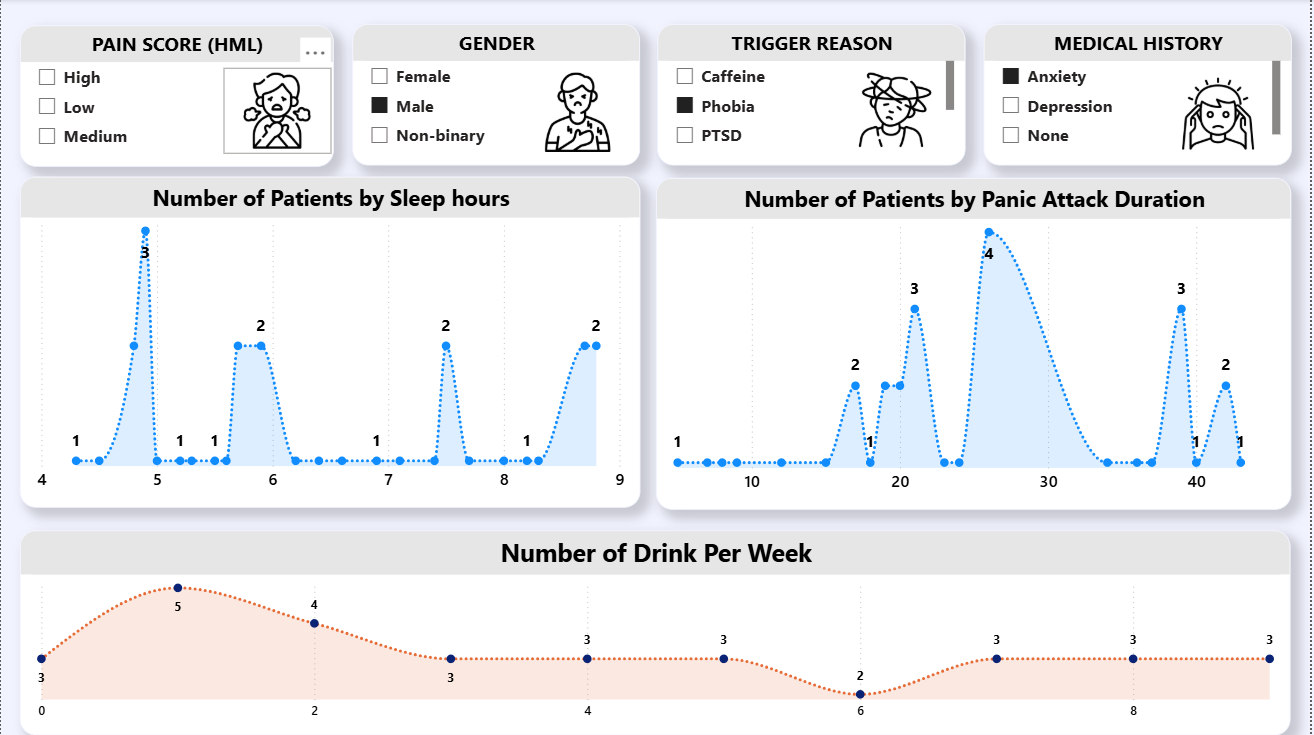

What the dashboard file says about the page in this screenshot:
{"tool":"powerbi","page":{"name":"Other Requirement","canvas":[1280,720],"ordinal":2},"visuals":[{"type":"slicer","fields":{"Values":["PANIC_ATTACK_DATA.Pain Score (HML)"]},"box":[36.1,24.5,290,138.5],"z":0},{"type":"slicer","fields":{"Values":["PANIC_ATTACK_DATA.GENDER"]},"box":[341.9,24.5,281.3,138.5],"z":1000},{"type":"slicer","fields":{"Values":["PANIC_ATTACK_DATA.TRIGGER_REASON"]},"box":[640.6,24.5,301.5,138.5],"z":2000},{"type":"slicer","fields":{"Values":["PANIC_ATTACK_DATA.MEDICAL_HISTORY"]},"box":[960.9,24.5,301.5,138.5],"z":3000},{"type":"areaChart","title":"Number of Drink Per Week","fields":{"Category":["PANIC_ATTACK_DATA.ALCOHOL_CONSUMPTION"],"Y":["CountNonNull(PANIC_ATTACK_DATA.ID)"]},"box":[34.6,519.4,1236.7,200.5],"z":4000},{"type":"areaChart","title":"Number of Patients by Sleep hours","fields":{"Y":["CountNonNull(PANIC_ATTACK_DATA.ID)"],"Category":["PANIC_ATTACK_DATA.SLEEP_HOURS"]},"box":[36.1,173.1,590.1,324.6],"z":5000},{"type":"areaChart","title":"Number of Patients by Panic Attack Duration ","fields":{"Y":["CountNonNull(PANIC_ATTACK_DATA.ID)"],"Category":["PANIC_ATTACK_DATA.DURATION_MINUTES"]},"box":[640.6,174.6,621.8,324.6],"z":6001}]}

Visuals, with their boxes in screenshot pixels (x1, y1, x2, y2), scaled from the page's 1280x720 canvas onto the 1314x735 screenshot:
slicer - PANIC_ATTACK_DATA.Pain Score (HML): <bbox>37, 25, 335, 166</bbox>
slicer - PANIC_ATTACK_DATA.GENDER: <bbox>351, 25, 640, 166</bbox>
slicer - PANIC_ATTACK_DATA.TRIGGER_REASON: <bbox>658, 25, 967, 166</bbox>
slicer - PANIC_ATTACK_DATA.MEDICAL_HISTORY: <bbox>986, 25, 1296, 166</bbox>
"Number of Drink Per Week" areaChart: <bbox>36, 530, 1305, 734</bbox>
"Number of Patients by Sleep hours" areaChart: <bbox>37, 177, 643, 508</bbox>
"Number of Patients by Panic Attack Duration " areaChart: <bbox>658, 178, 1296, 510</bbox>
